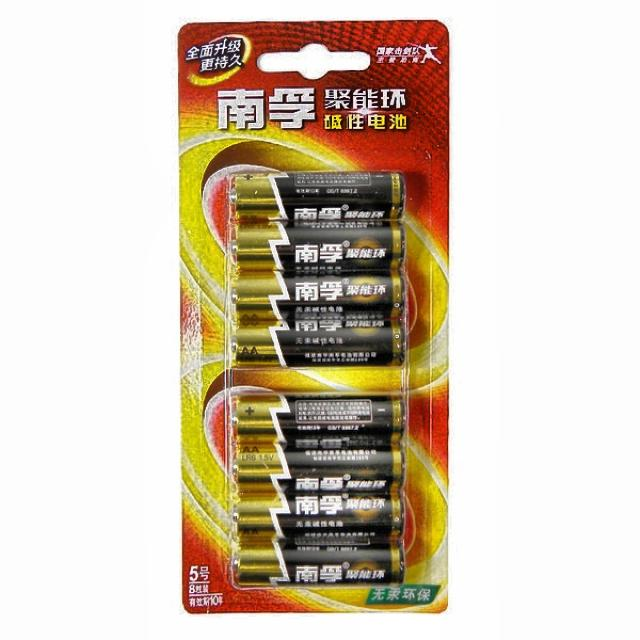Non-Valuable Waste - Batteries: (226, 389, 405, 585), (232, 172, 406, 367)
